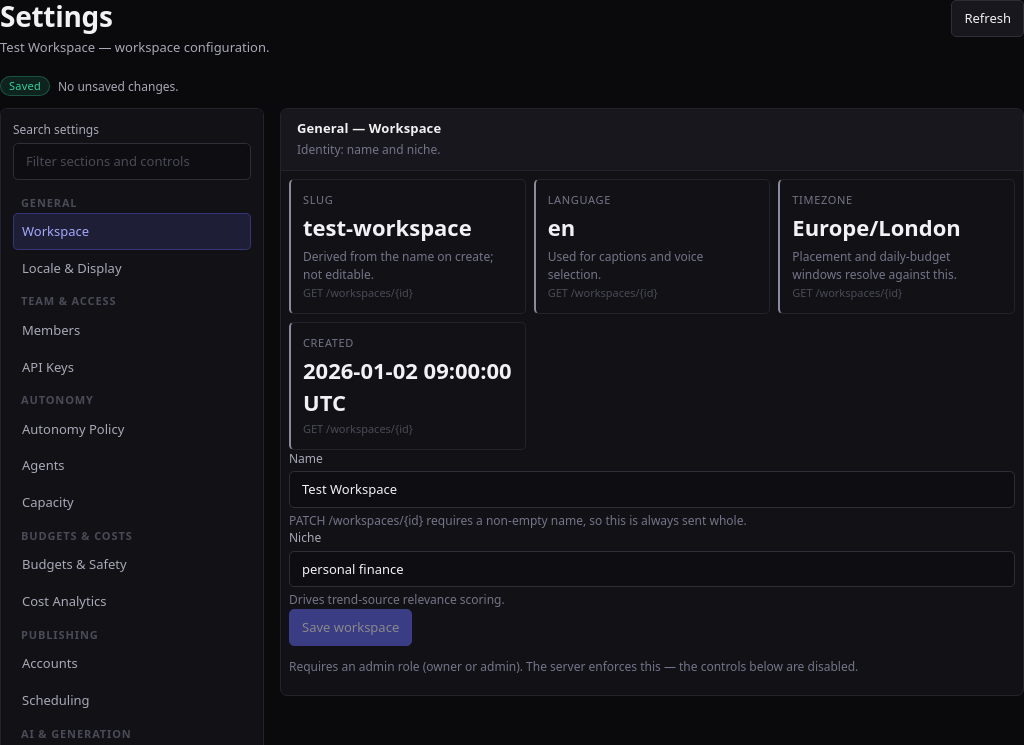
it: settings search › says so when nothing matches and recovers on clear
In the field labelled "Search settings": (132, 161) x1=13 y1=143 x2=251 y2=180, type "zzz-no-such-setting"
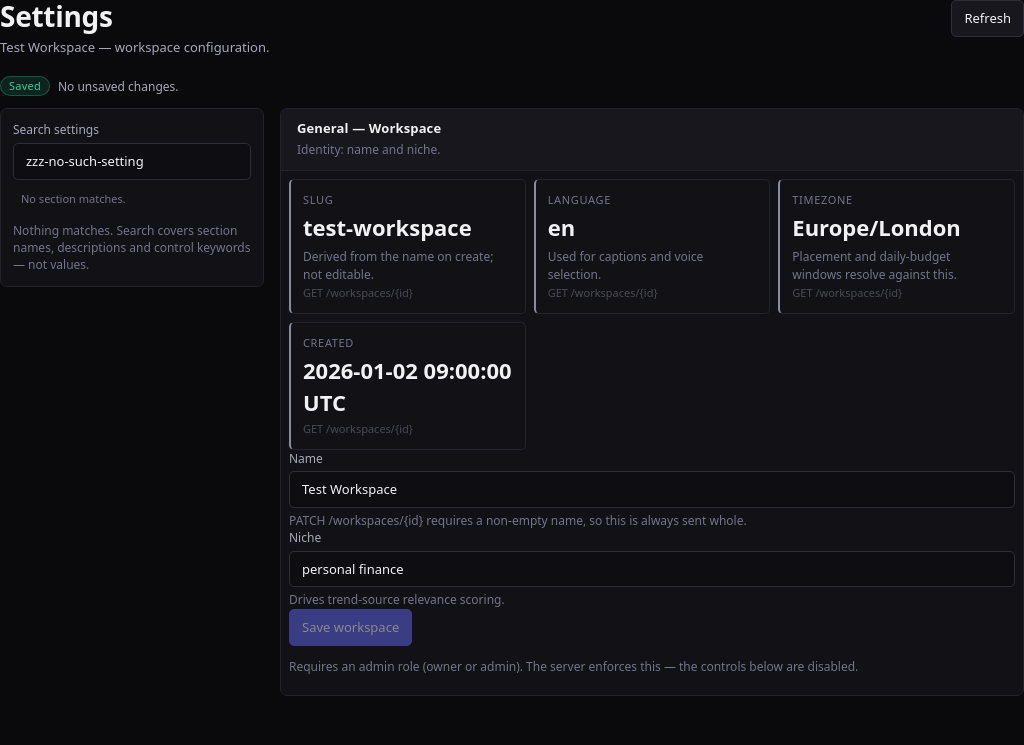
expect the text "No section matches." is shown: met, box x1=21 y1=191 x2=126 y2=206
Clear the field labelled "Search settings": (132, 161) x1=13 y1=143 x2=251 y2=180
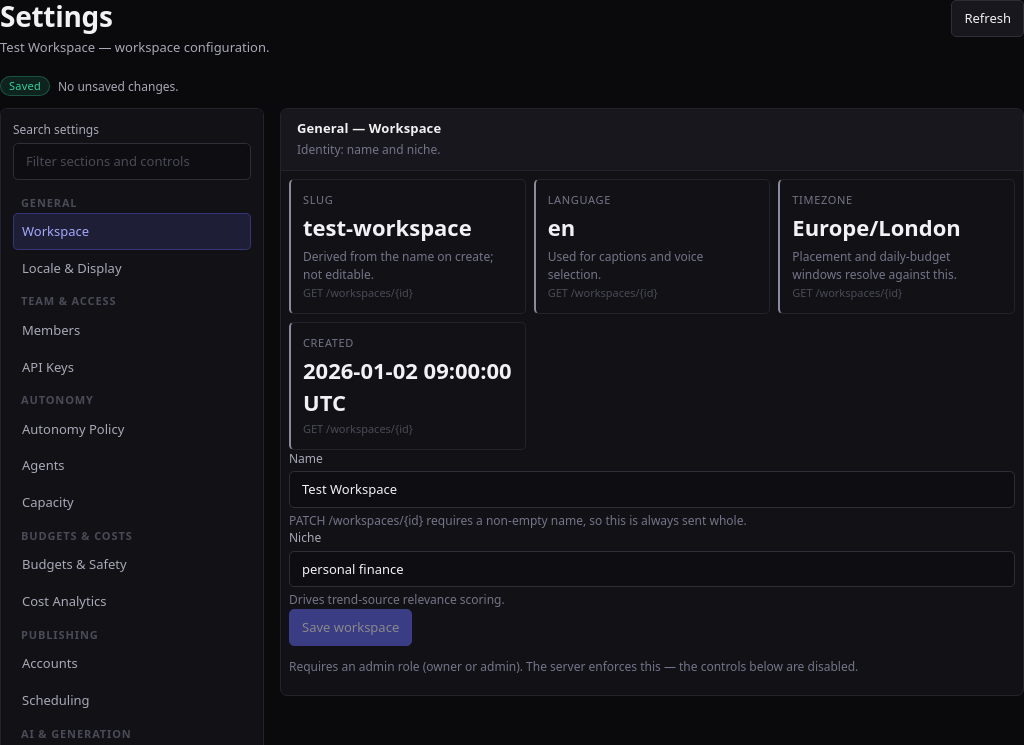
expect the button "Workspace" is shown: met, box x1=13 y1=213 x2=251 y2=250
